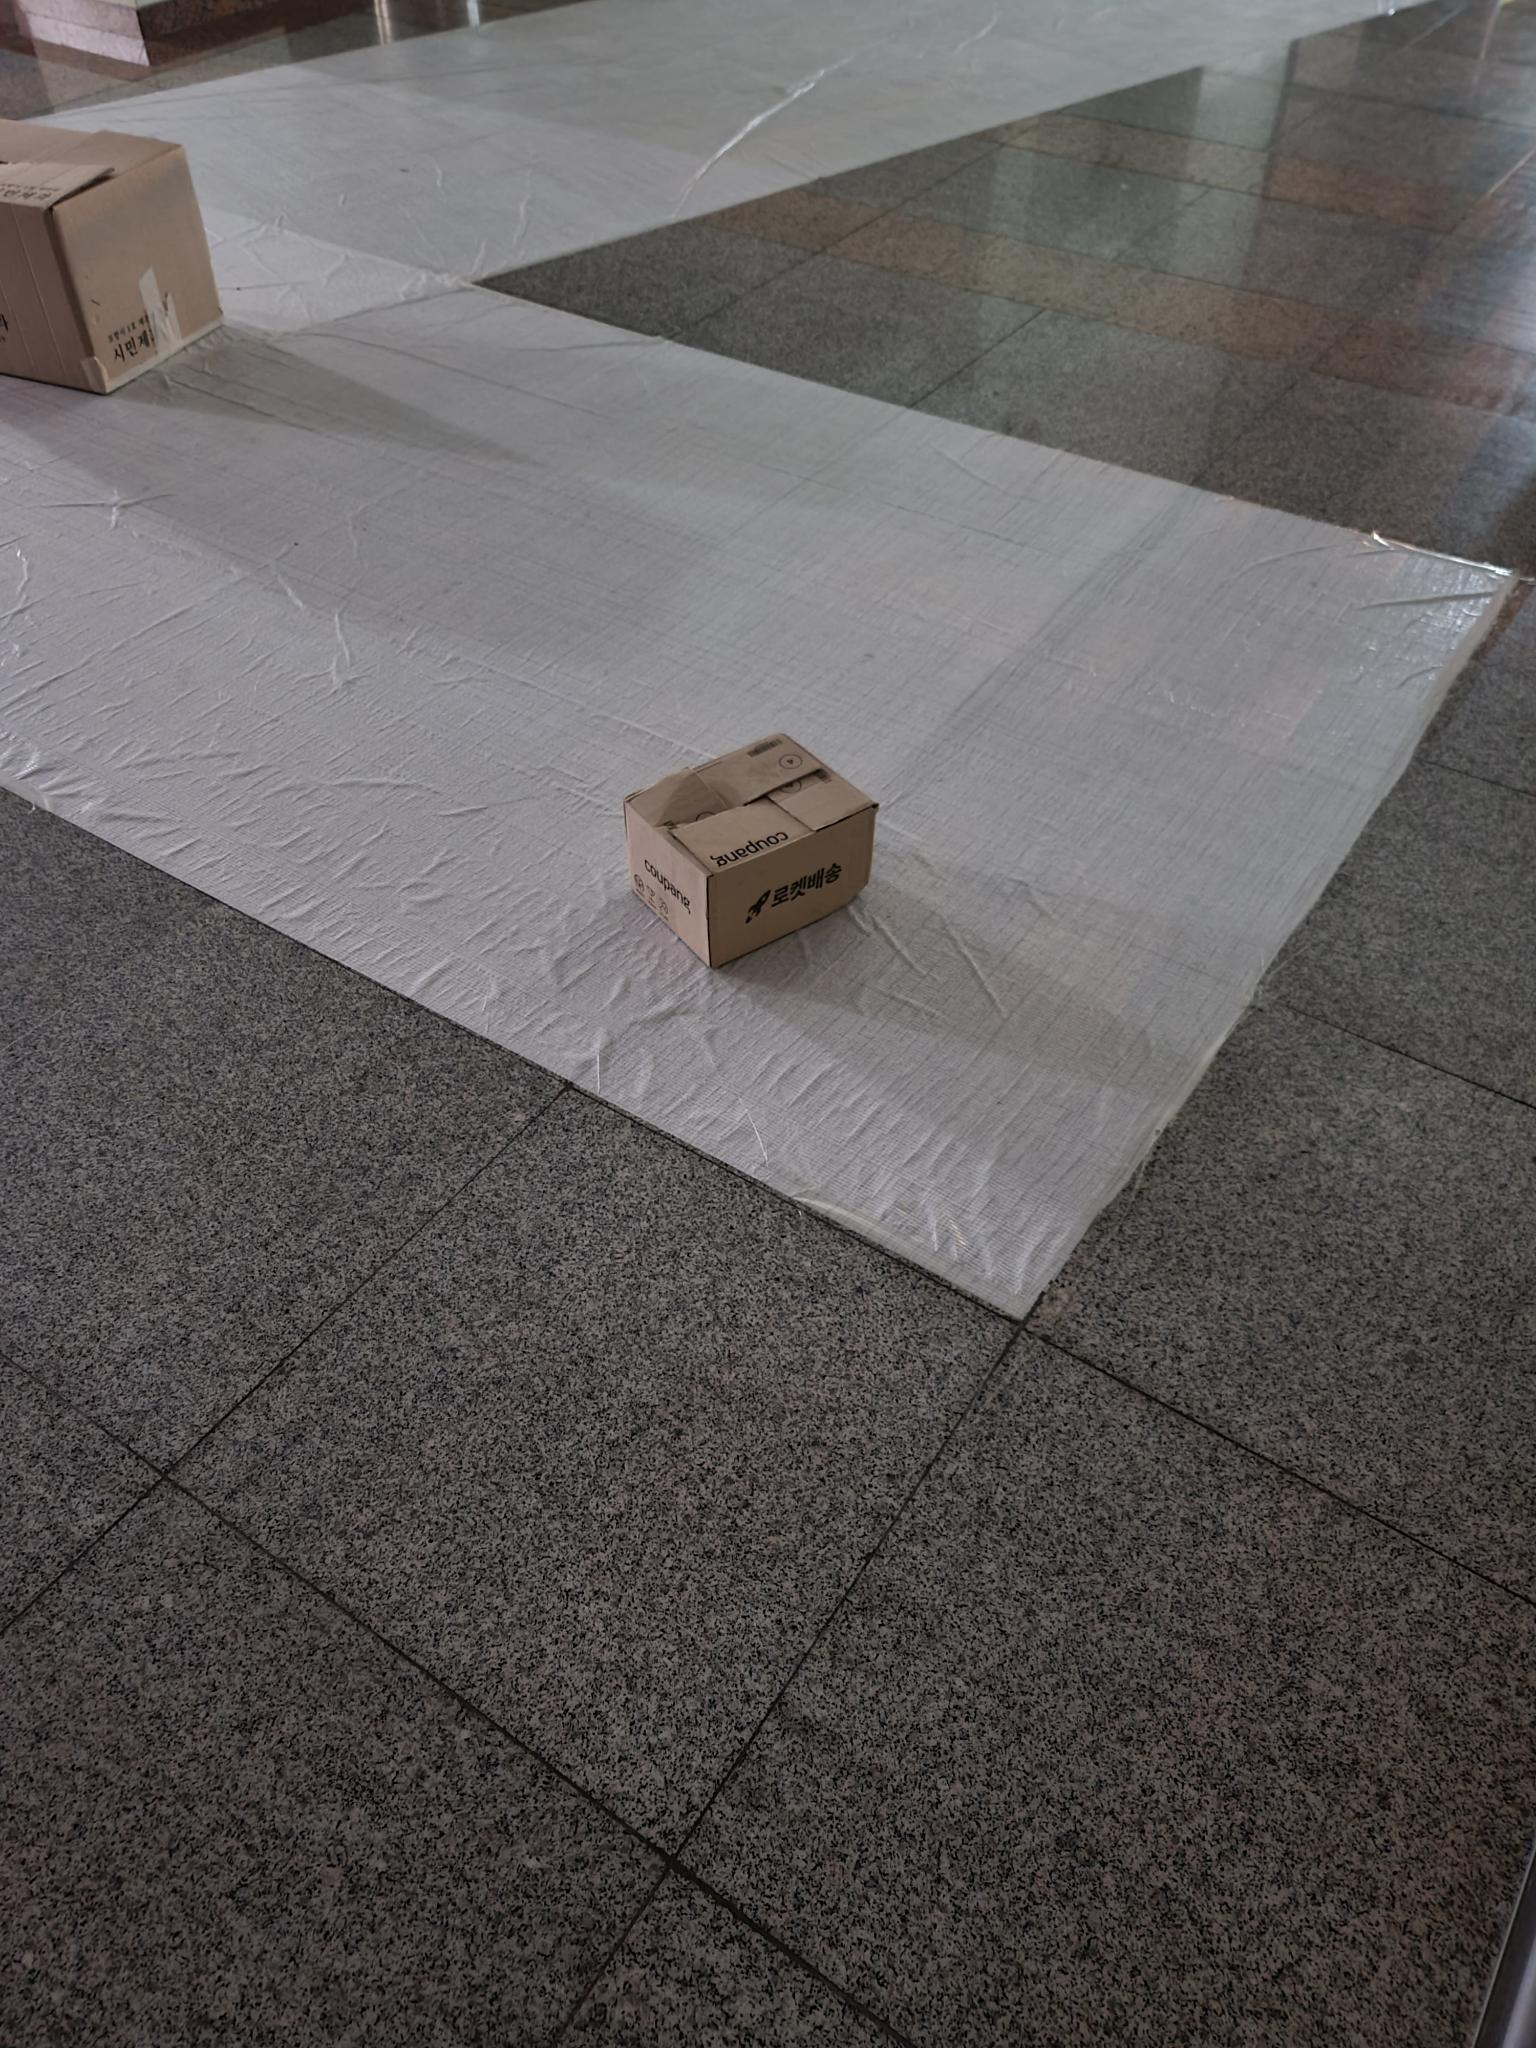Box: (602, 698, 895, 984)
